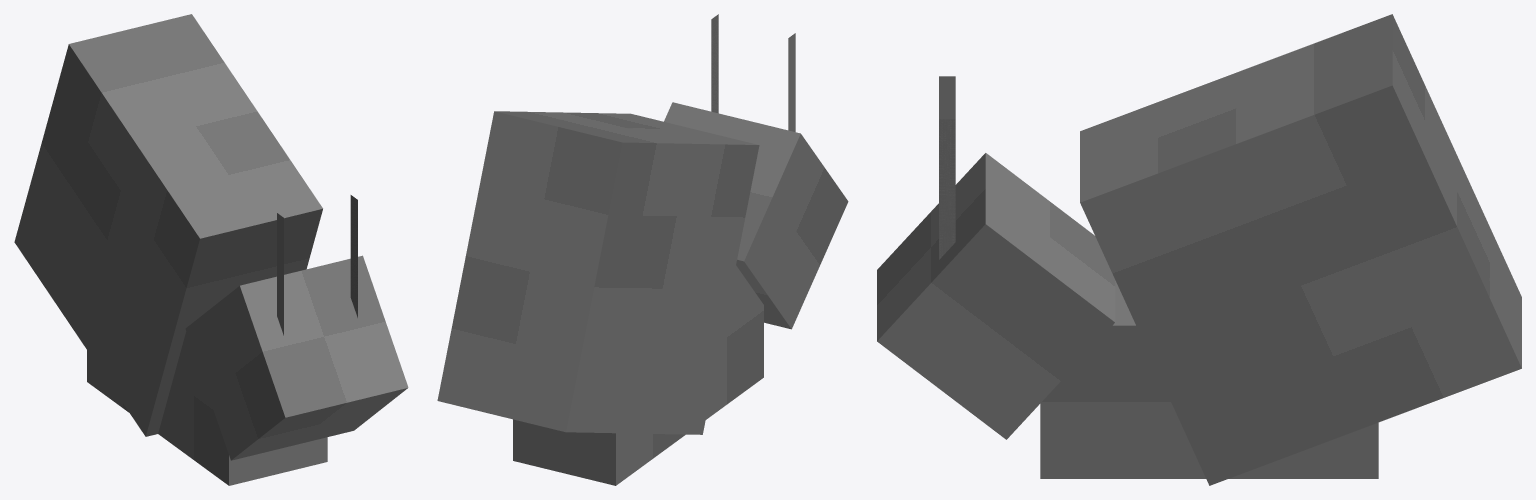
3 views of the same model, side by side, from view 1: azimuth 30°, elevation 25°; view 2: azimuth 150°, elevation 25°; view 3: azimuth 270°, elevation 25° (orthographic). The views are drawn at different scales.
Parts seen in each view (by area): view 1: cube; view 2: cube; view 3: cube.
Part boxes in pixels (x1,y1,x2,y2): cube: [14, 14, 408, 485]; cube: [437, 14, 848, 485]; cube: [877, 14, 1521, 485].
Bounding box in the file's own units: 0.1206 × 0.3152 × 0.46.
Materials: 1 (1 with a texture image).
